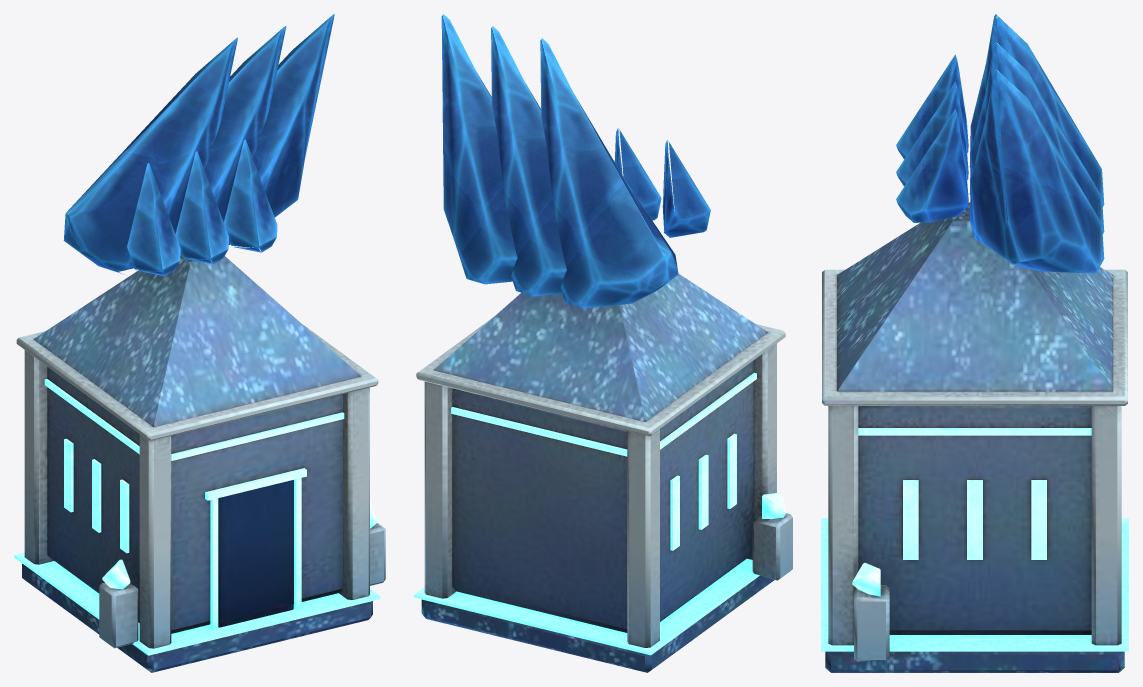
The model's file is bld3_frost.glb.
3 views of the same model, side by side, from view 1: azimuth 30°, elevation 25°; view 2: azimuth 150°, elevation 25°; view 3: azimuth 270°, elevation 25° (orthographic). The views are drawn at different scales.
Parts seen in each view (by area): view 1: bld3_frost; view 2: bld3_frost; view 3: bld3_frost.
Boxes of the visible parts, <box> form: bld3_frost: <box>14,14,385,672</box>; bld3_frost: <box>414,14,792,672</box>; bld3_frost: <box>821,14,1128,672</box>.
Size of the model in its own units: 5.31 by 9.69 by 4.32.
2 materials, 2 textured.
